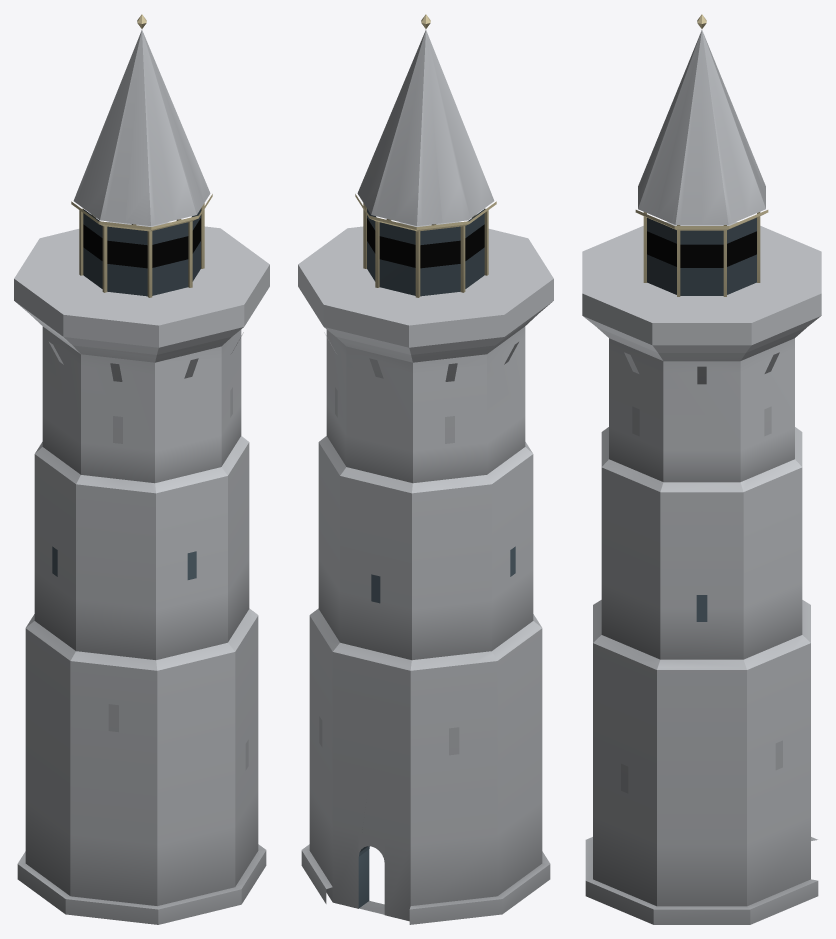
Rendered from sg_lighthouse.glb.
The picture shows the model from 3 angles, left to right: view 1: azimuth 30°, elevation 25°; view 2: azimuth 150°, elevation 25°; view 3: azimuth 270°, elevation 25°; orthographic projection.
Parts seen in each view (by area): view 1: sg_lighthouse_SG_Stone, sg_lighthouse_SG_Glass, sg_lighthouse_SG_Beam, sg_lighthouse_SG_Brass; view 2: sg_lighthouse_SG_Stone, sg_lighthouse_SG_Glass, sg_lighthouse_SG_Beam, sg_lighthouse_SG_Brass; view 3: sg_lighthouse_SG_Stone, sg_lighthouse_SG_Glass, sg_lighthouse_SG_Beam, sg_lighthouse_SG_Brass.
Part boxes in pixels (x1,y1,x2,y2): sg_lighthouse_SG_Stone: (14, 30, 269, 924); sg_lighthouse_SG_Glass: (52, 208, 200, 579); sg_lighthouse_SG_Beam: (83, 218, 200, 268); sg_lighthouse_SG_Brass: (71, 14, 212, 297); sg_lighthouse_SG_Stone: (298, 30, 553, 924); sg_lighthouse_SG_Glass: (358, 208, 515, 908); sg_lighthouse_SG_Beam: (367, 218, 484, 268); sg_lighthouse_SG_Brass: (355, 14, 496, 297); sg_lighthouse_SG_Stone: (582, 30, 821, 924); sg_lighthouse_SG_Glass: (647, 217, 756, 621); sg_lighthouse_SG_Beam: (647, 231, 756, 267); sg_lighthouse_SG_Brass: (635, 14, 768, 296).
Size of the model in its own units: 11.2 by 44.5 by 11.2.
